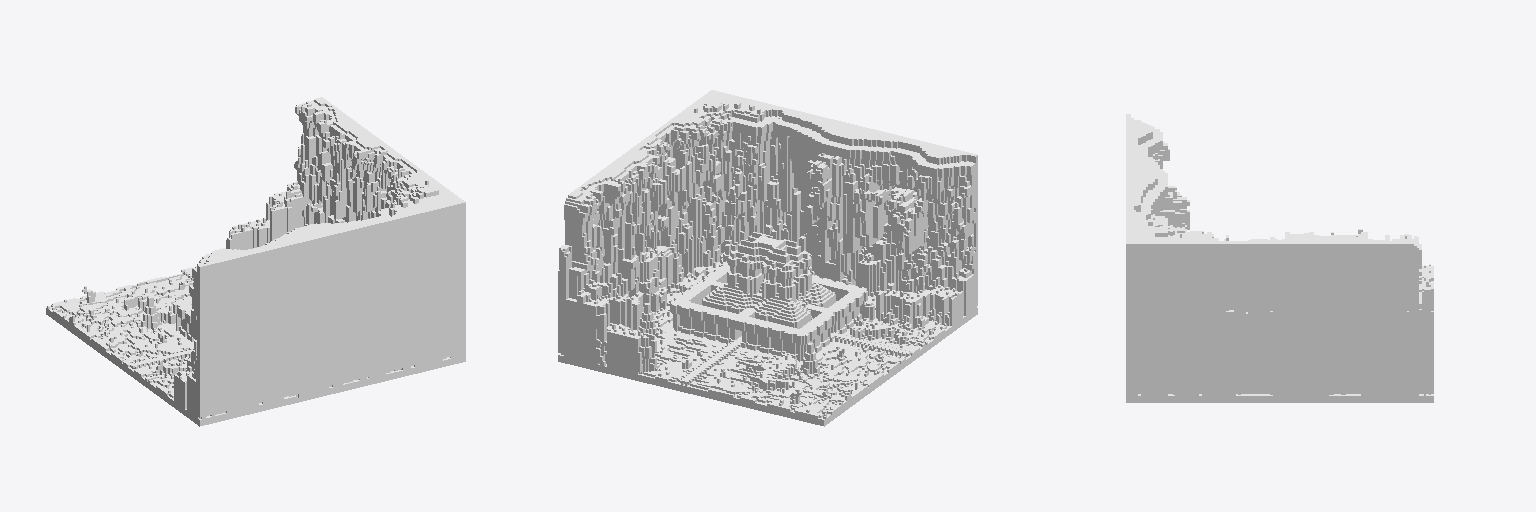
File: aztec.obj
3 views of the same model, side by side, from view 1: azimuth 30°, elevation 25°; view 2: azimuth 150°, elevation 25°; view 3: azimuth 270°, elevation 25° (orthographic).
Visible parts, largest first — view 1: aztec; view 2: aztec; view 3: aztec.
Boxes of the visible parts, box(x1,y1,x2,y2) form: aztec: box(46, 97, 465, 426); aztec: box(558, 90, 977, 426); aztec: box(1126, 114, 1433, 402).
Bounding box in the file's own units: 126 × 74 × 126.